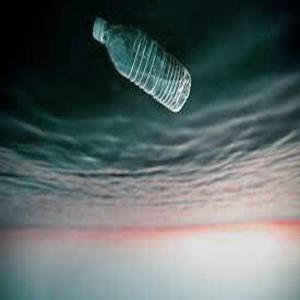Plastic: (89, 10, 193, 114)
